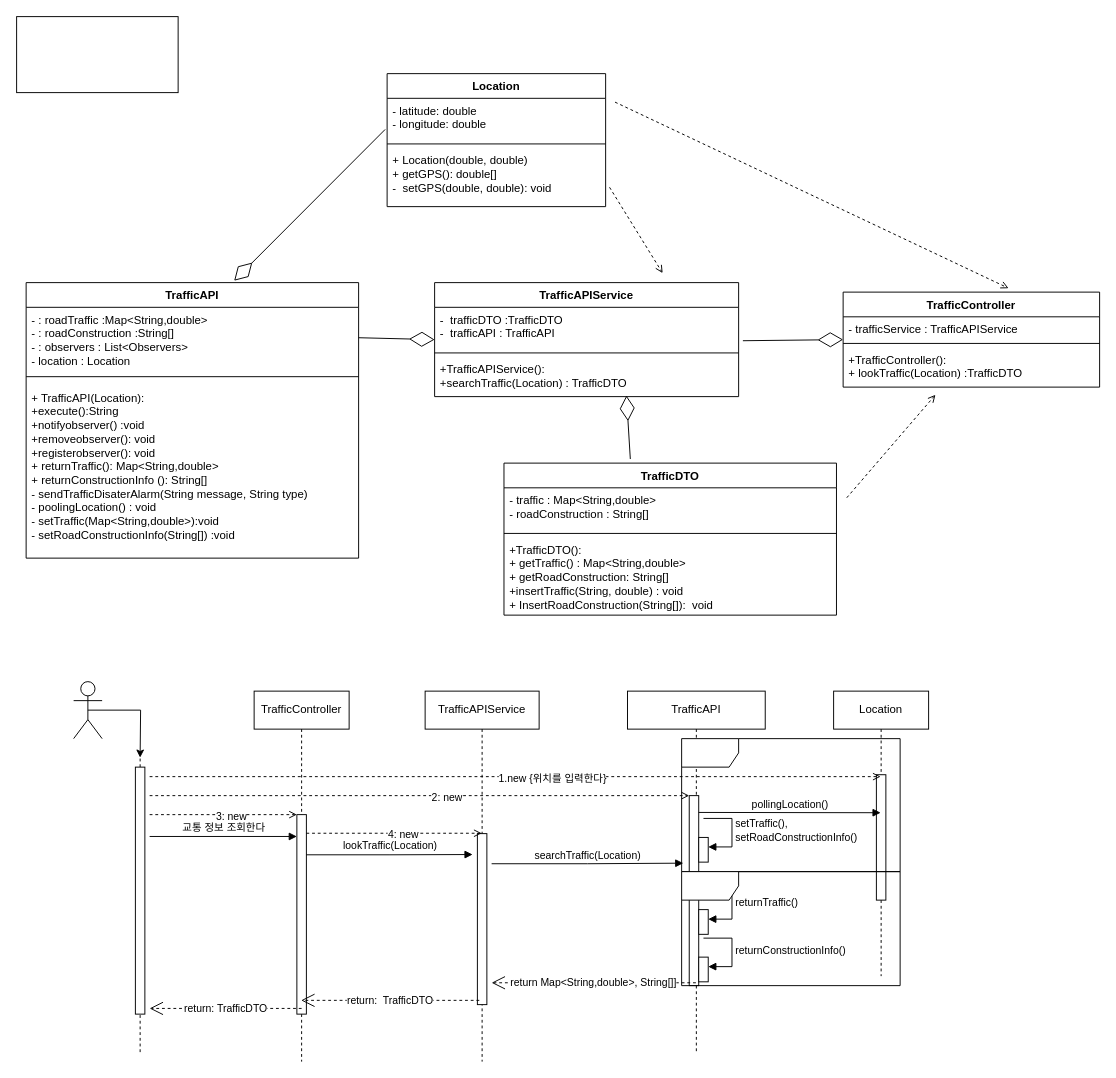
Image size: 1116x1078. Some labels were removed from this diagram. Here are the shapes that lost their labels. From the top down, the centre of each, then its label:
At point (97, 54): "교통상황 정보".
At point (87, 710): "User".
At point (790, 805): "loop".
At point (790, 928): "par".
